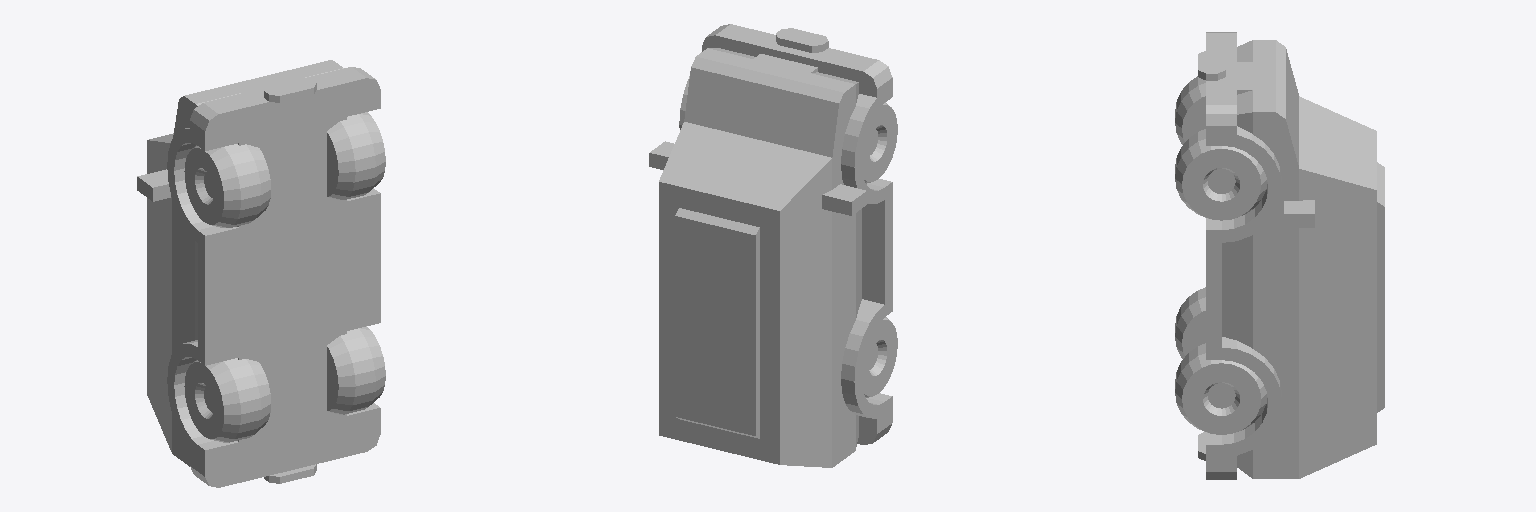
File: van.001.obj
3 views of the same model, side by side, from view 1: azimuth 30°, elevation 25°; view 2: azimuth 150°, elevation 25°; view 3: azimuth 270°, elevation 25° (orthographic).
Parts seen in each view (by area): view 1: van.001; view 2: van.001; view 3: van.001.
Part boxes in pixels (left/top/right/bottom): van.001: left=137, top=60, right=385, bottom=487; van.001: left=649, top=24, right=897, bottom=467; van.001: left=1175, top=32, right=1384, bottom=479.
Size of the model in its own units: 1.5 by 2.75 by 1.35.